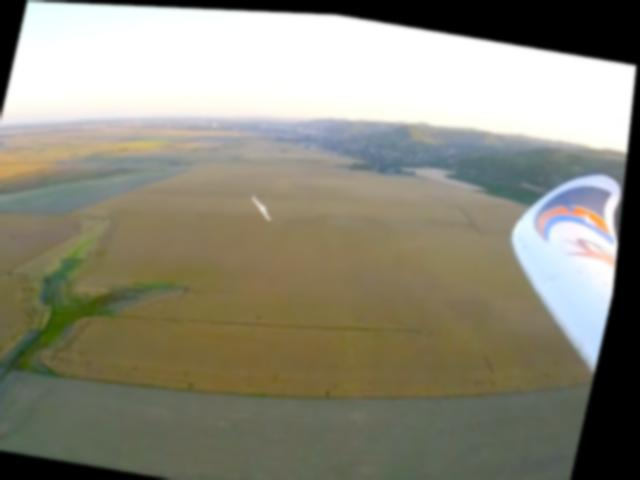plane: (252, 192, 279, 218)
